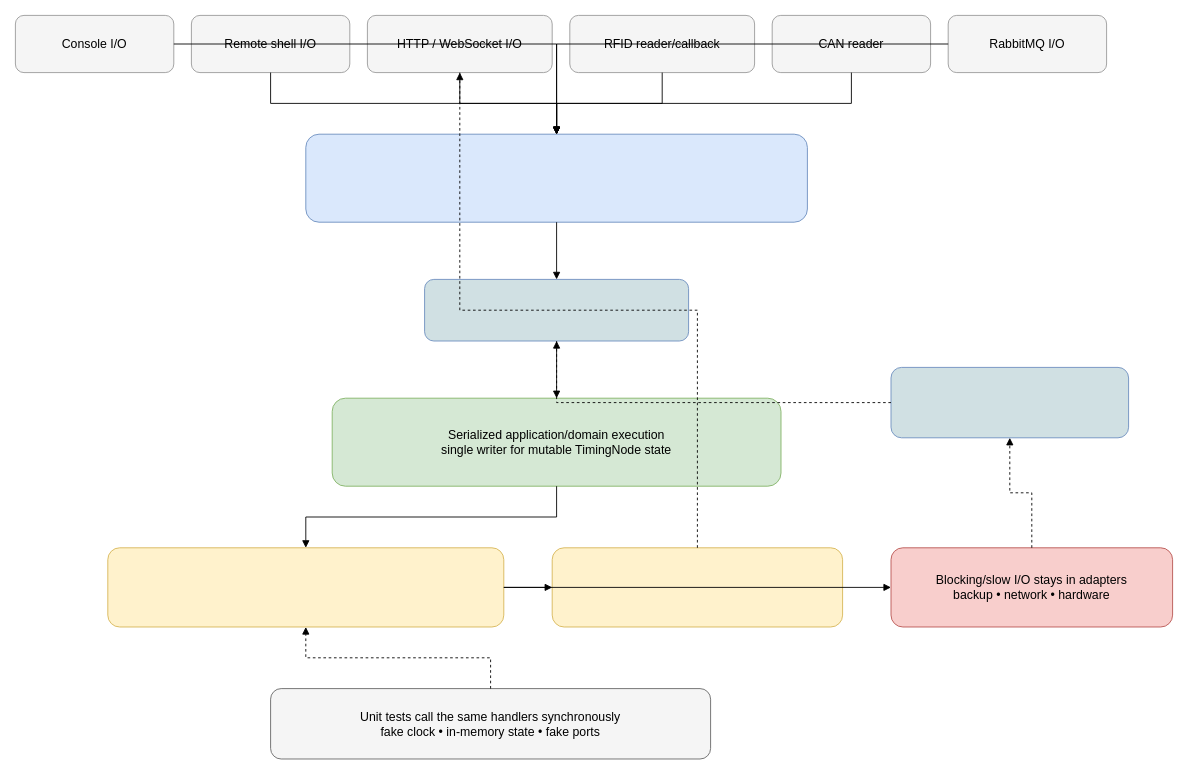
Image size: 1188x774. Some labels were removed from this diagram. The centre of each missing label's shape, as x and y in pixels:
"Adapter boundary immutable commands/events capture source timestamp immediately" belongs at point 556,177.
"Application/domain handlers no threads • no sleeps • injected Clock/ports" belongs at point 305,587.
"I/O completion/failure returns as event" belongs at point 1009,402.
"Immutable status snapshots + outbound domain events" belongs at point 697,587.
"TimingNode ingress queue" belongs at point 556,310.
